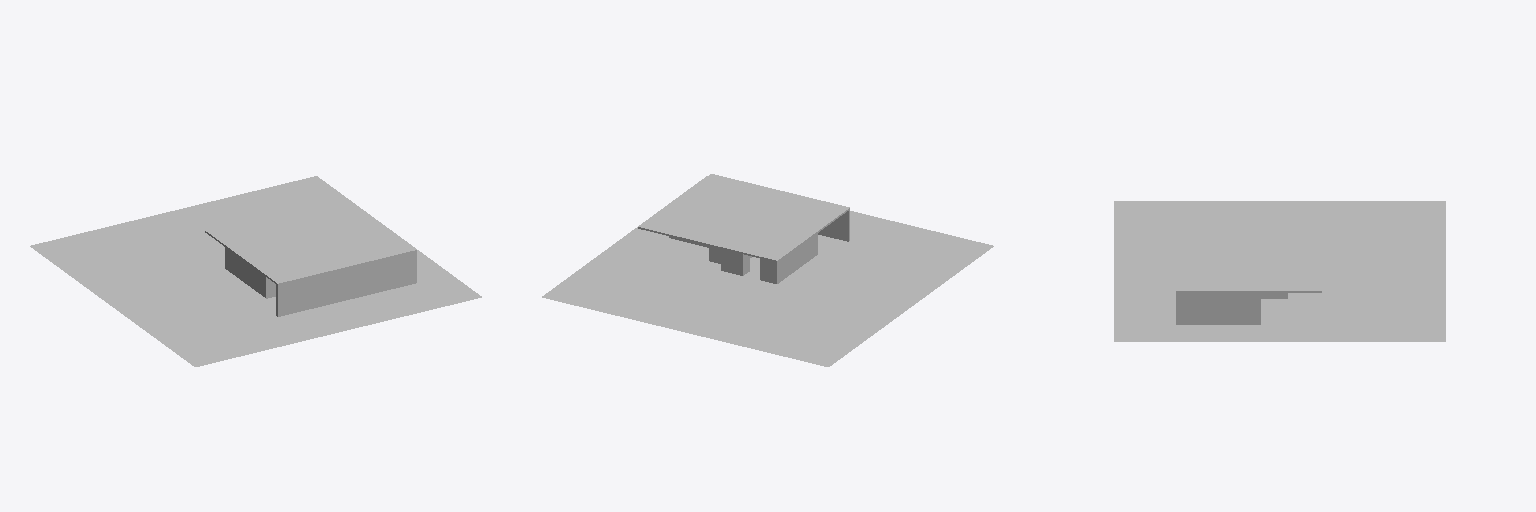
File: full_starting_map (2).obj
3 views of the same model, side by side, from view 1: azimuth 30°, elevation 25°; view 2: azimuth 150°, elevation 25°; view 3: azimuth 270°, elevation 25° (orthographic).
Parts seen in each view (by area): view 1: Plane, Cube; view 2: Plane, Cube; view 3: Plane, Cube.
Boxes of the visible parts, x1=… form: Plane: x1=30, y1=176, x2=481, y2=366; Cube: x1=205, y1=197, x2=416, y2=316; Plane: x1=542, y1=176, x2=993, y2=366; Cube: x1=638, y1=174, x2=849, y2=283; Plane: x1=1114, y1=201, x2=1445, y2=341; Cube: x1=1176, y1=224, x2=1321, y2=324.
Bounding box in the file's own units: 59.25 × 6.96 × 59.25.